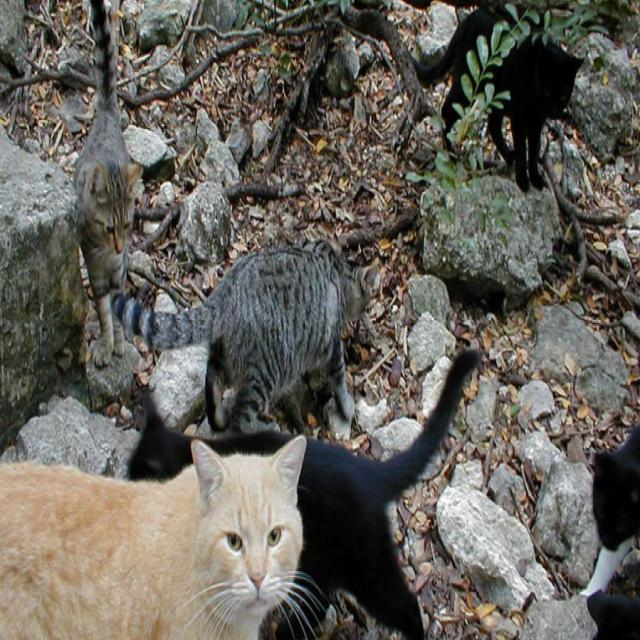cat: (0, 438, 305, 638), (279, 351, 480, 638), (114, 242, 376, 431), (74, 0, 141, 367), (489, 40, 581, 191), (414, 9, 496, 147), (592, 425, 640, 551), (130, 393, 191, 480), (206, 431, 288, 456)
